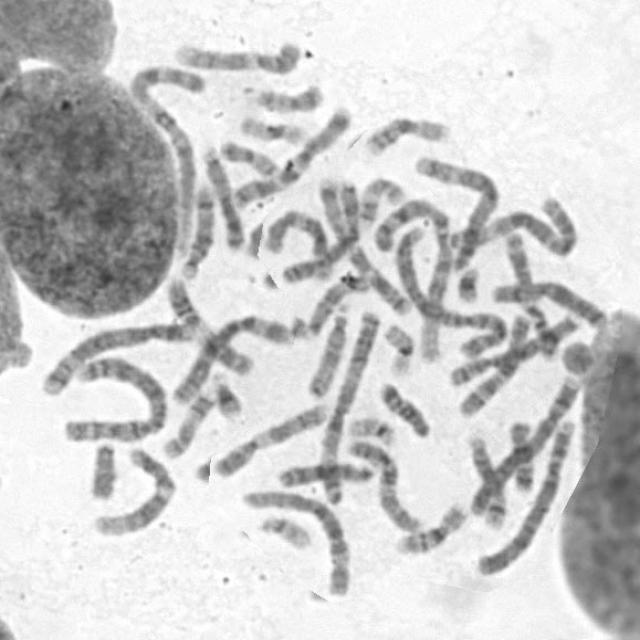A1: (388, 209, 512, 356), (123, 59, 200, 259)
A2: (388, 209, 512, 356), (56, 350, 168, 444)
A3: (312, 303, 384, 506), (449, 198, 581, 262)
B4: (462, 369, 584, 521), (470, 413, 581, 578)
B5: (34, 317, 195, 398), (410, 152, 504, 266)
C10: (454, 306, 540, 420), (342, 432, 427, 534)
C11: (160, 271, 256, 378), (498, 226, 562, 361)
C12: (86, 441, 178, 538), (262, 205, 337, 284)
C6: (238, 484, 352, 600), (168, 308, 295, 406)
C7: (315, 174, 413, 317), (226, 101, 354, 210)
C8: (442, 308, 583, 389), (278, 177, 364, 285)
C9: (210, 399, 329, 479), (170, 35, 304, 75)
D13: (196, 140, 248, 252), (272, 454, 379, 490)
D14: (461, 429, 510, 530), (175, 178, 219, 281)
D15: (298, 268, 372, 340), (303, 296, 354, 399)
E16: (391, 497, 471, 557), (361, 111, 454, 157)
E17: (157, 386, 217, 460), (352, 172, 408, 228)
E18: (374, 376, 433, 440), (504, 416, 535, 494)
F19: (234, 110, 308, 147), (379, 318, 417, 377)
F20: (214, 133, 281, 178), (250, 78, 326, 114)
G21: (206, 365, 246, 420), (451, 261, 483, 305)
G22: (253, 509, 314, 551), (344, 411, 399, 446)
X: (486, 275, 608, 331)
Y: (85, 438, 119, 502)
